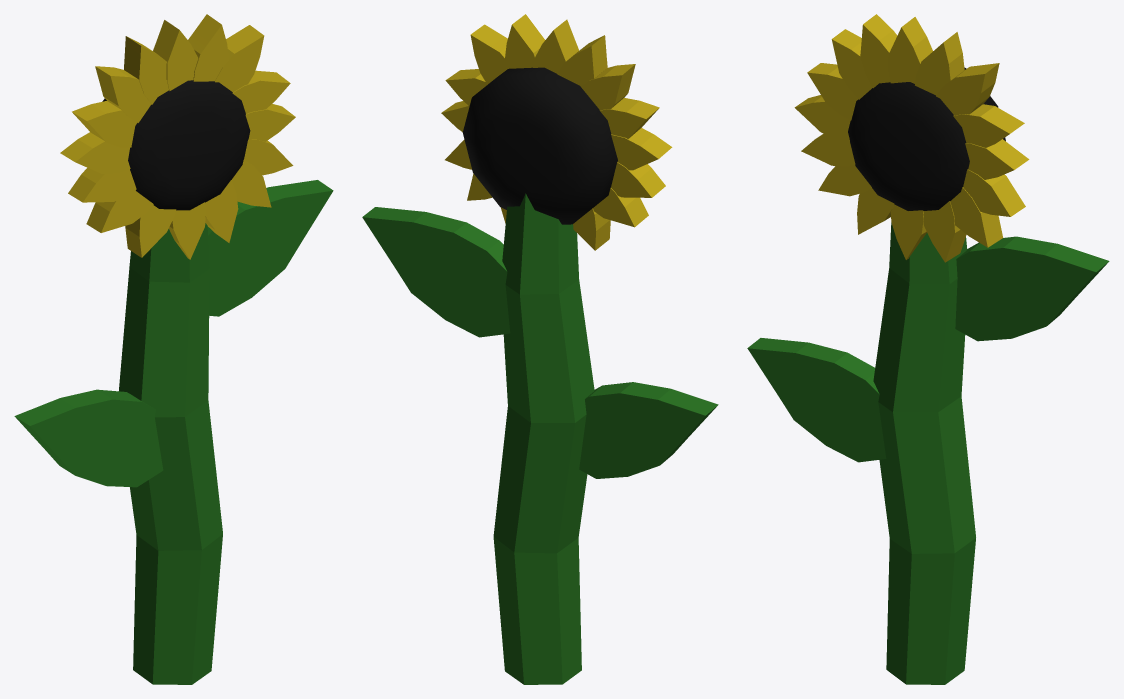
The model's file is Sunflower.fbx.
The picture shows the model from 3 angles, left to right: view 1: azimuth 30°, elevation 25°; view 2: azimuth 150°, elevation 25°; view 3: azimuth 330°, elevation 25°; orthographic projection.
Parts seen in each view (by area): view 1: Sunflower; view 2: Sunflower; view 3: Sunflower.
Part boxes in pixels (left/top/right/bottom): Sunflower: left=14, top=14, right=333, bottom=684; Sunflower: left=362, top=14, right=718, bottom=684; Sunflower: left=747, top=14, right=1109, bottom=684.
Bounding box in the file's own units: 130 × 248 × 31.5.
